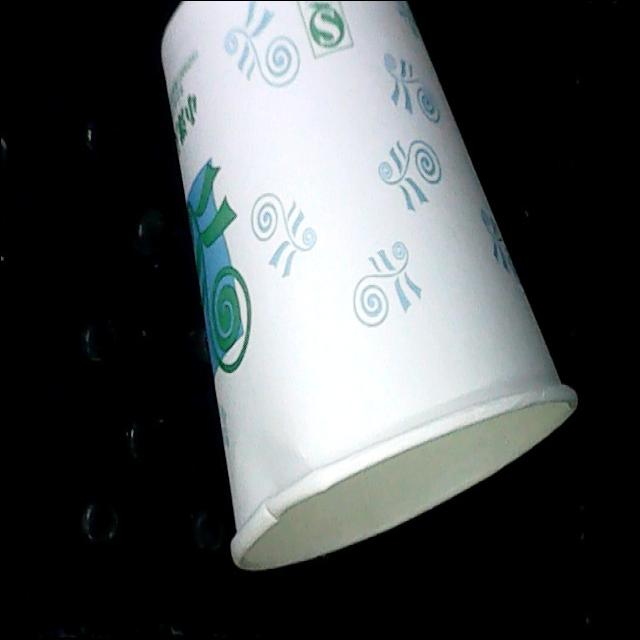-Recyclables - paper cup-: (161, 0, 576, 580)
